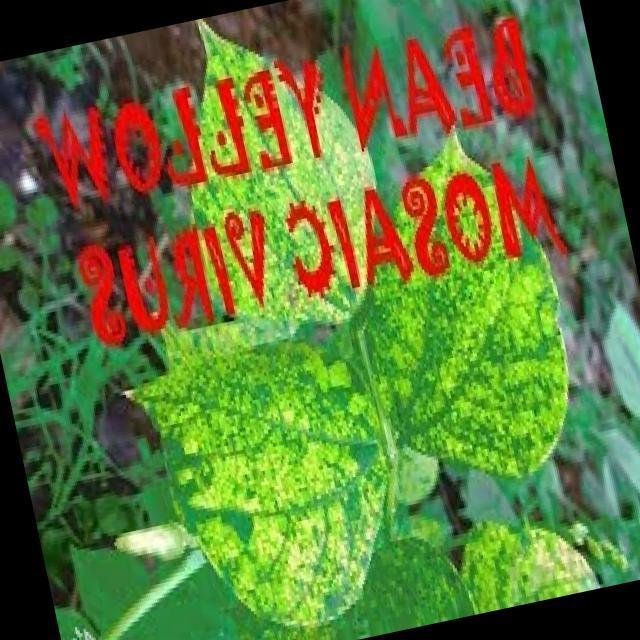Mosaic Virus: (122, 314, 400, 640)
